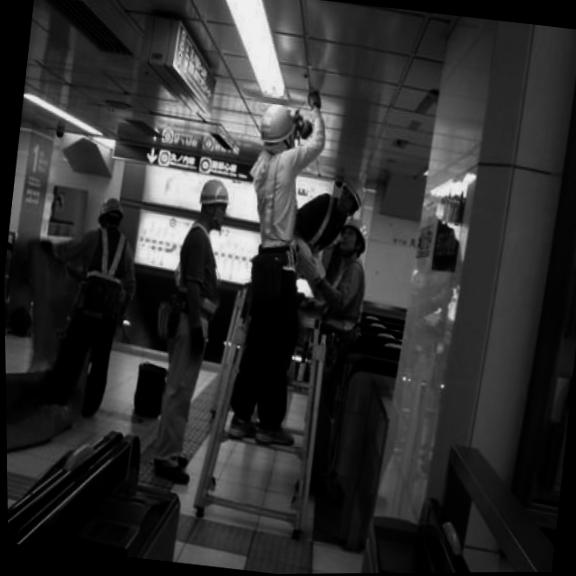safety_vest: (246, 134, 305, 258), (167, 219, 233, 317), (319, 252, 374, 335), (300, 192, 358, 252), (85, 228, 131, 284)
